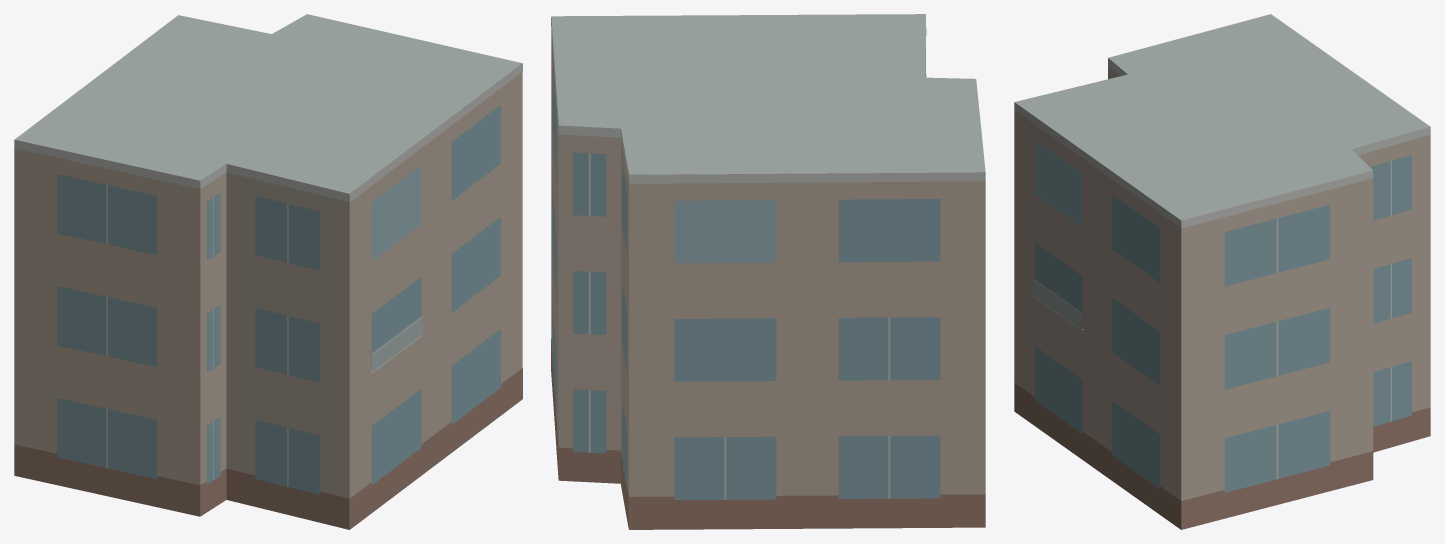
The model's file is survey-upis-32749998.glb.
3 views of the same model, side by side, from view 1: azimuth 30°, elevation 25°; view 2: azimuth 150°, elevation 25°; view 3: azimuth 270°, elevation 25° (orthographic). The views are drawn at different scales.
Parts seen in each view (by area): view 1: survey-upis-32749998.tmp; view 2: survey-upis-32749998.tmp; view 3: survey-upis-32749998.tmp.
Boxes of the visible parts, <box> form: survey-upis-32749998.tmp: <box>14,14,522,529</box>; survey-upis-32749998.tmp: <box>551,14,985,529</box>; survey-upis-32749998.tmp: <box>1014,14,1430,529</box>.
Bounding box in the file's own units: 13.78 × 9.62 × 11.74.
